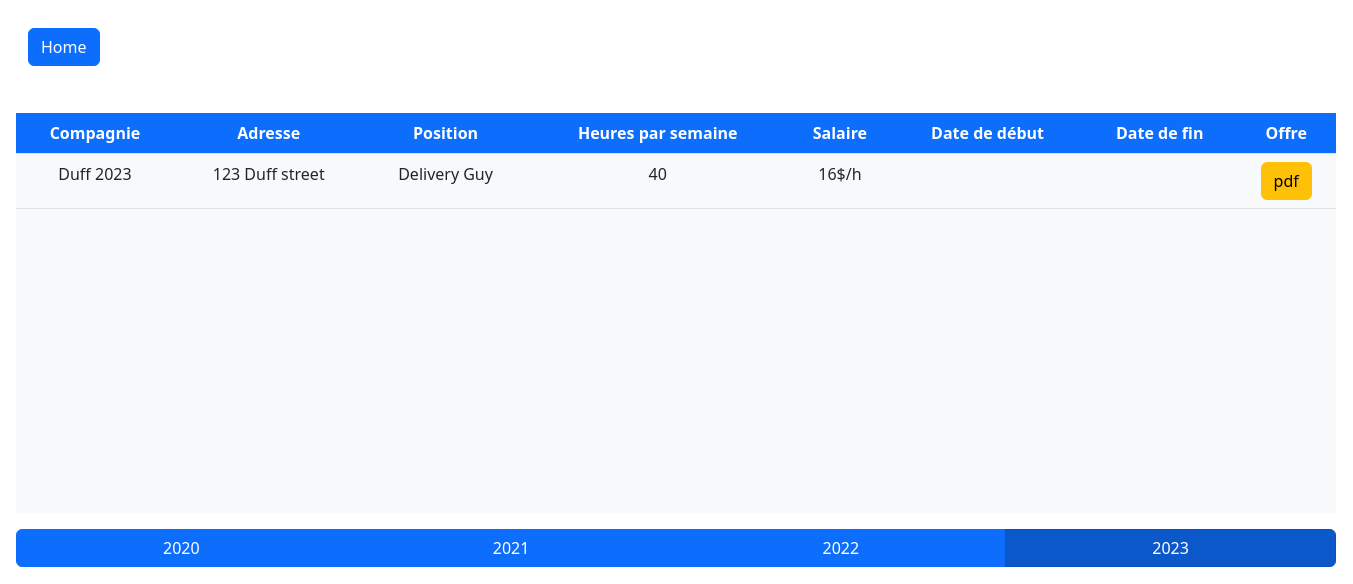
Test case: PreviousOffersPageTests › 2022OffersTest
Click the label with test id "2022": (841, 548) [676,529,1006,567]
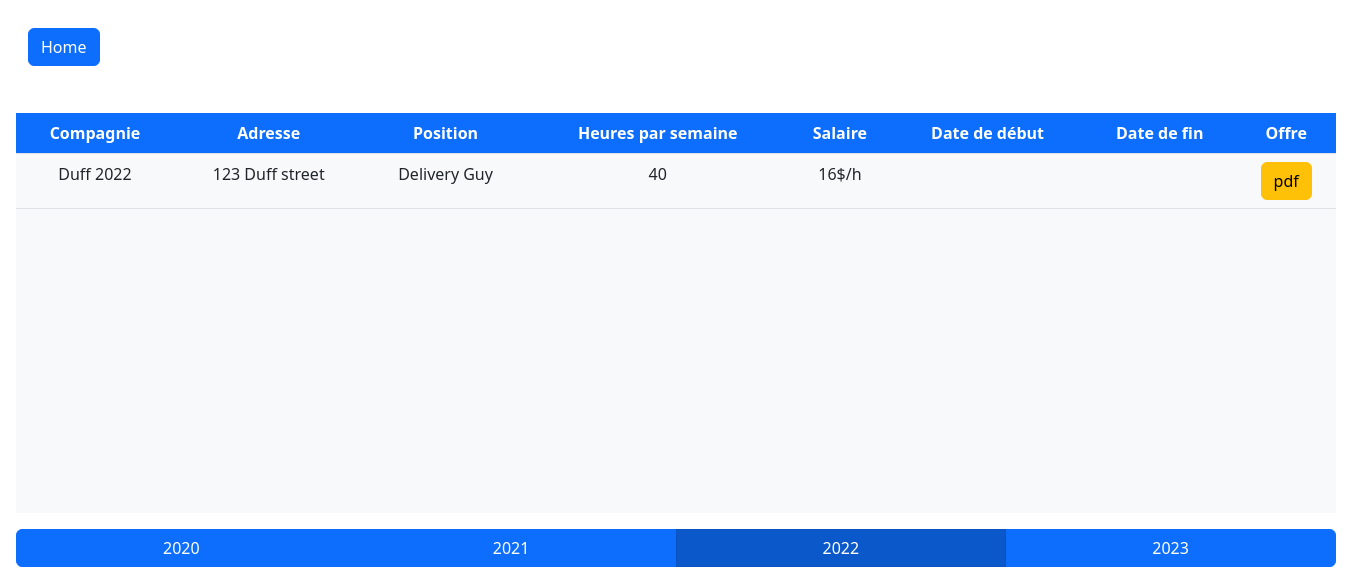
Now the text "Duff 2022" is shown, box [16,153,174,208]
